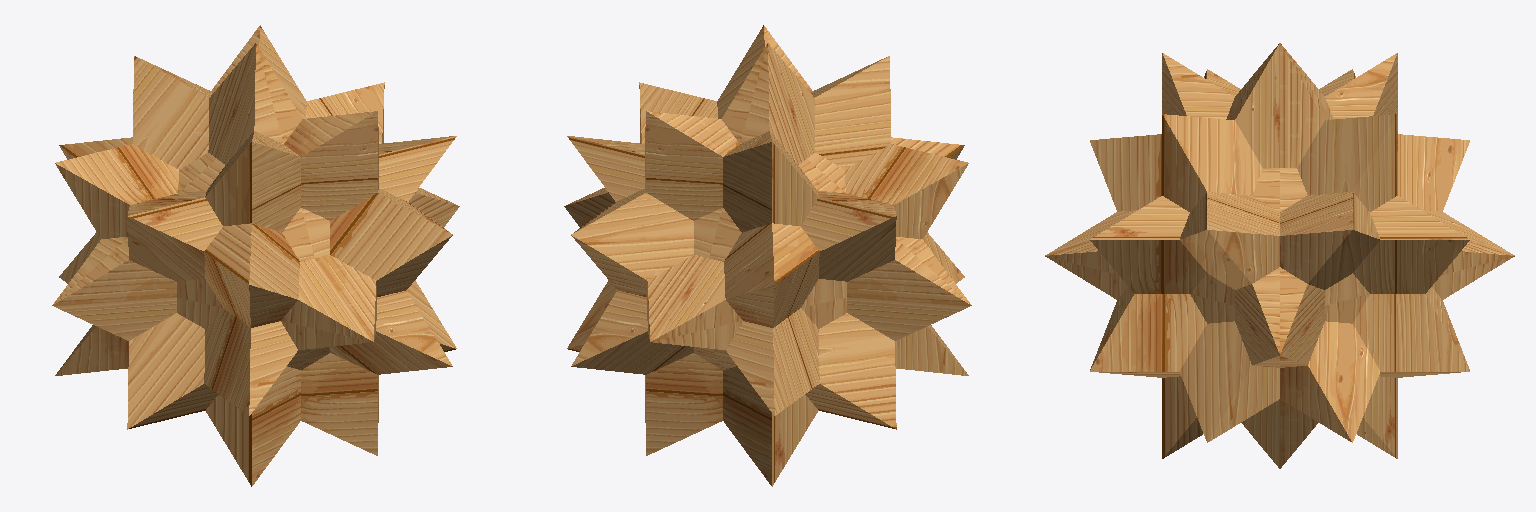
3 renders of one model, left to right at view 1: azimuth 30°, elevation 25°; view 2: azimuth 150°, elevation 25°; view 3: azimuth 270°, elevation 25°, orthographic.
Parts seen in each view (by area): view 1: Hedra001; view 2: Hedra001; view 3: Hedra001.
Part boxes in pixels (x1,y1,x2,y2): Hedra001: (52,25,459,486); Hedra001: (564,25,971,486); Hedra001: (1045,43,1514,468).
Size of the model in its own units: 57.42 by 57.42 by 57.42.
Materials: 1 (1 with a texture image).